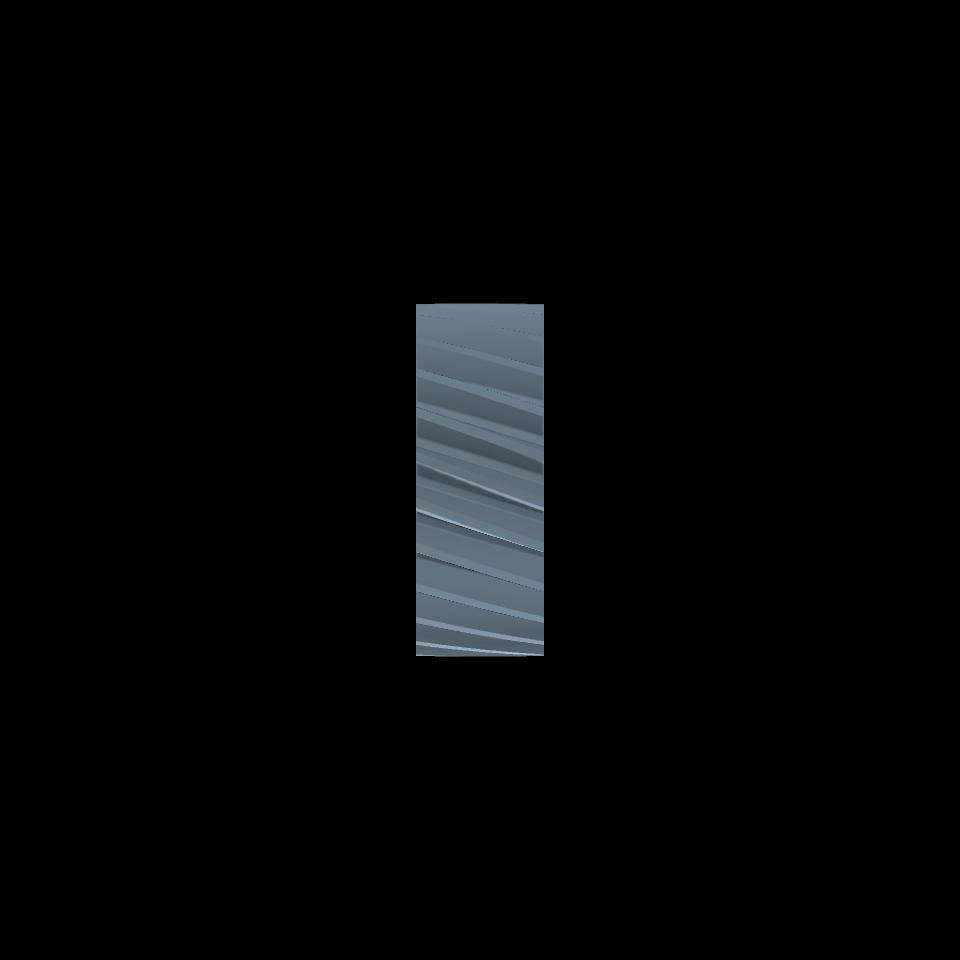Helical: (416, 303, 544, 654)
